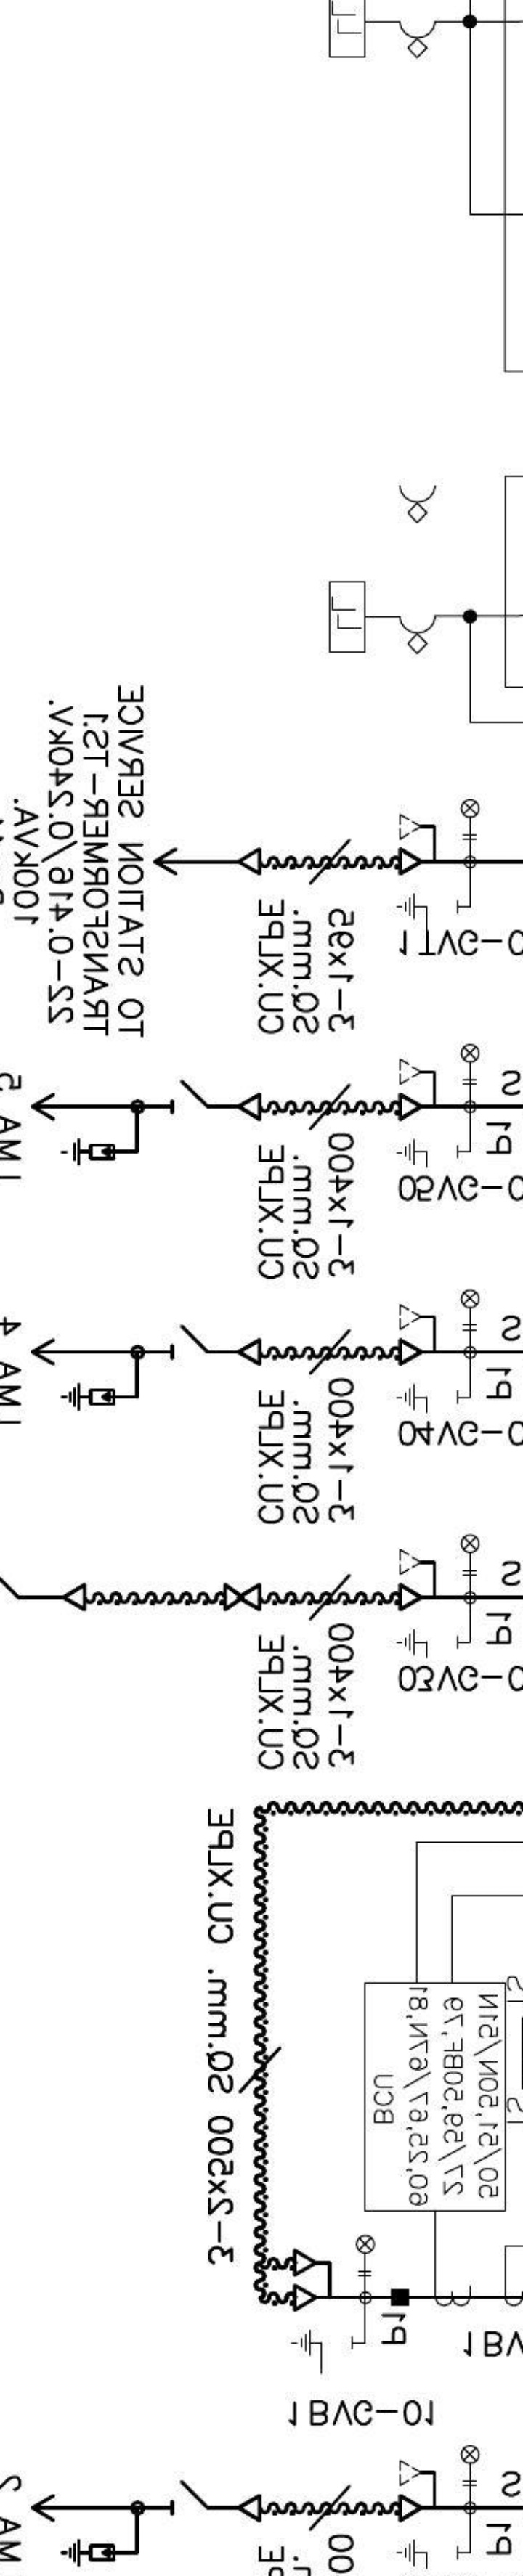22_ds_la_out: (30, 2479, 209, 2568), (30, 1324, 209, 1413), (30, 1079, 209, 1166)
22_gs: (291, 2328, 355, 2376), (396, 894, 461, 933), (396, 2538, 461, 2571), (396, 1628, 461, 1661), (396, 1382, 461, 1415), (396, 1138, 461, 1170)
22_ll: (461, 1288, 482, 1332), (459, 2445, 480, 2487), (461, 1533, 480, 1577), (461, 797, 480, 841), (355, 2234, 375, 2277), (461, 1043, 480, 1086)
LL: (326, 578, 367, 654)
terminator_double: (291, 2247, 332, 2313)
terminator_single: (237, 844, 263, 877), (237, 1091, 263, 1124), (237, 1336, 263, 1369), (62, 1580, 89, 1613), (237, 2492, 263, 2523)
terminator_splicing_kits: (224, 1582, 263, 1612)
terminator_w_future: (396, 2458, 437, 2523), (396, 1546, 437, 1612), (398, 1301, 439, 1367), (396, 1058, 437, 1124), (396, 812, 437, 877)
